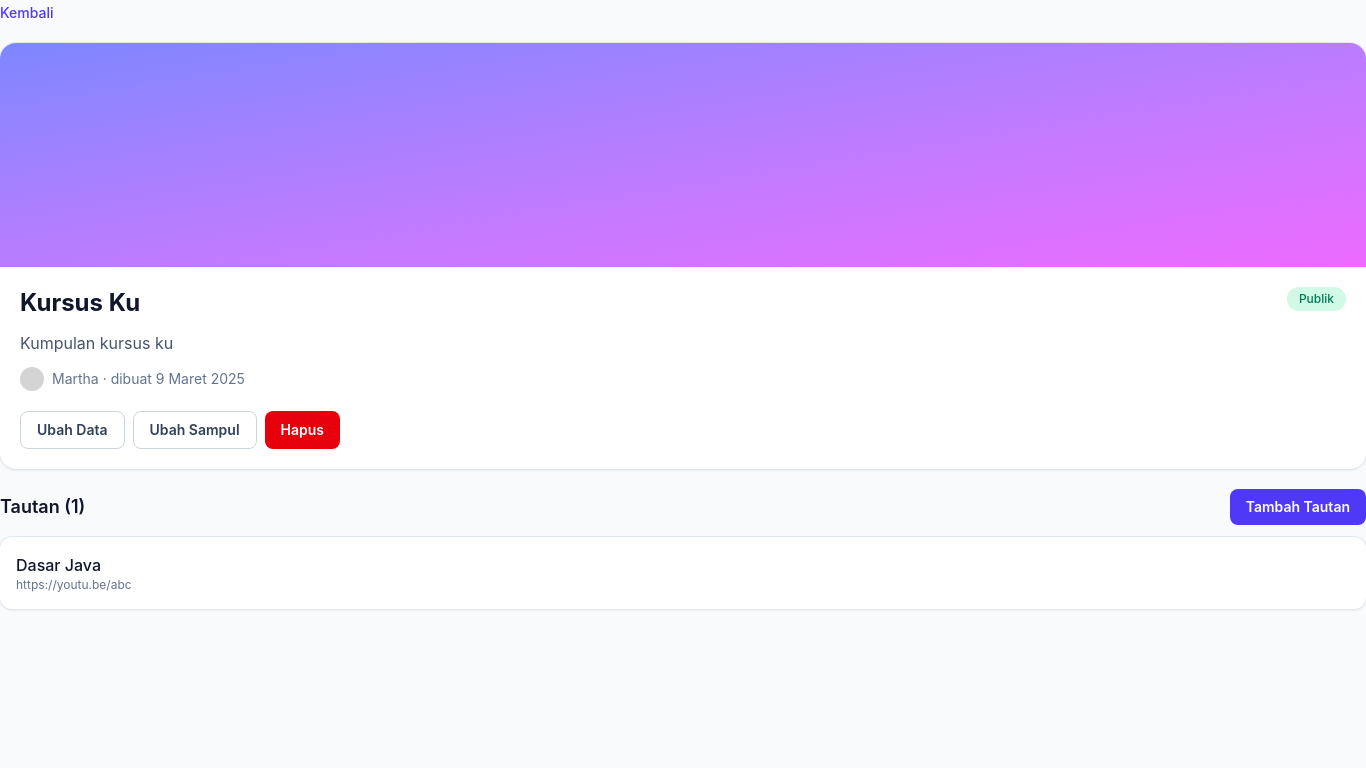
Test case: DetailPage › mengubah data lewat modal tanpa mengosongkan halaman
The image size is (1366, 768).
Click the button "Ubah Data": (72, 430) [20, 411, 124, 449]
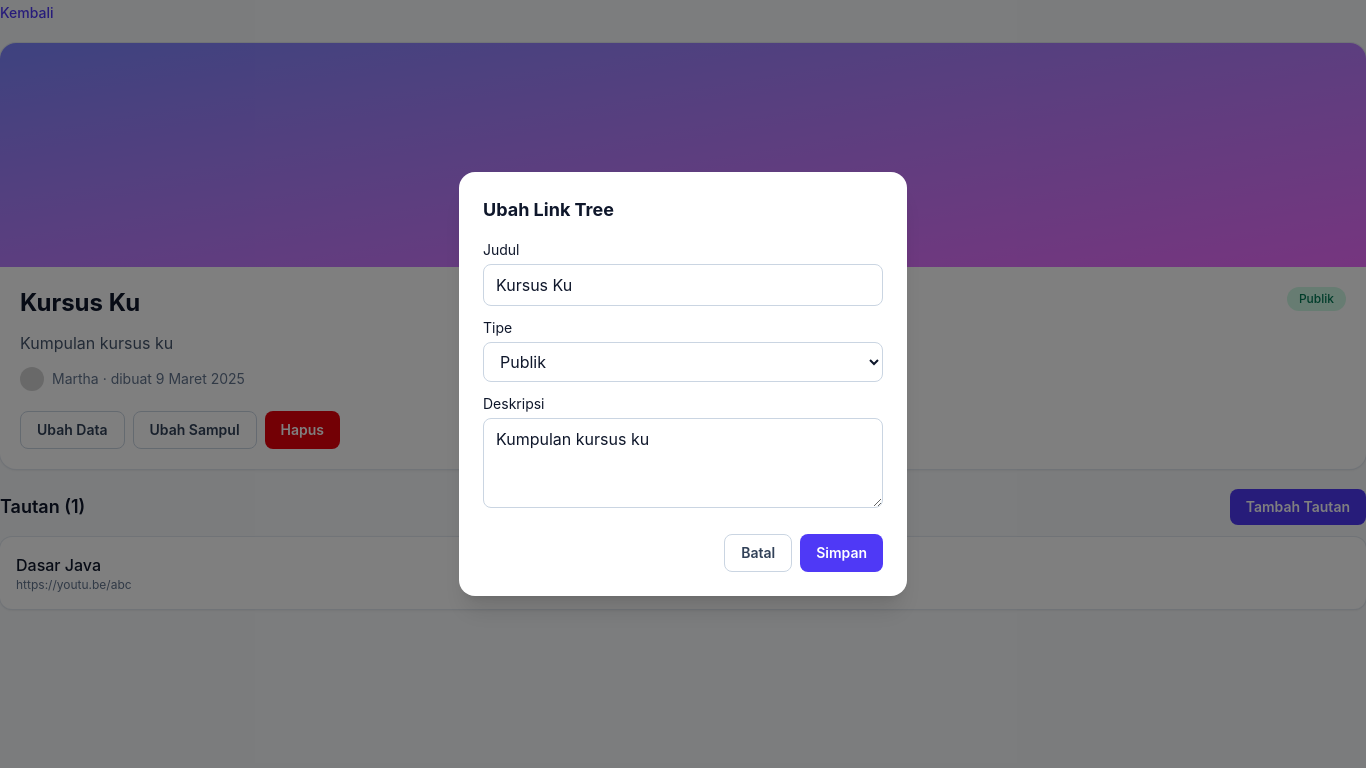
Submit the form, box [483, 240, 883, 572]
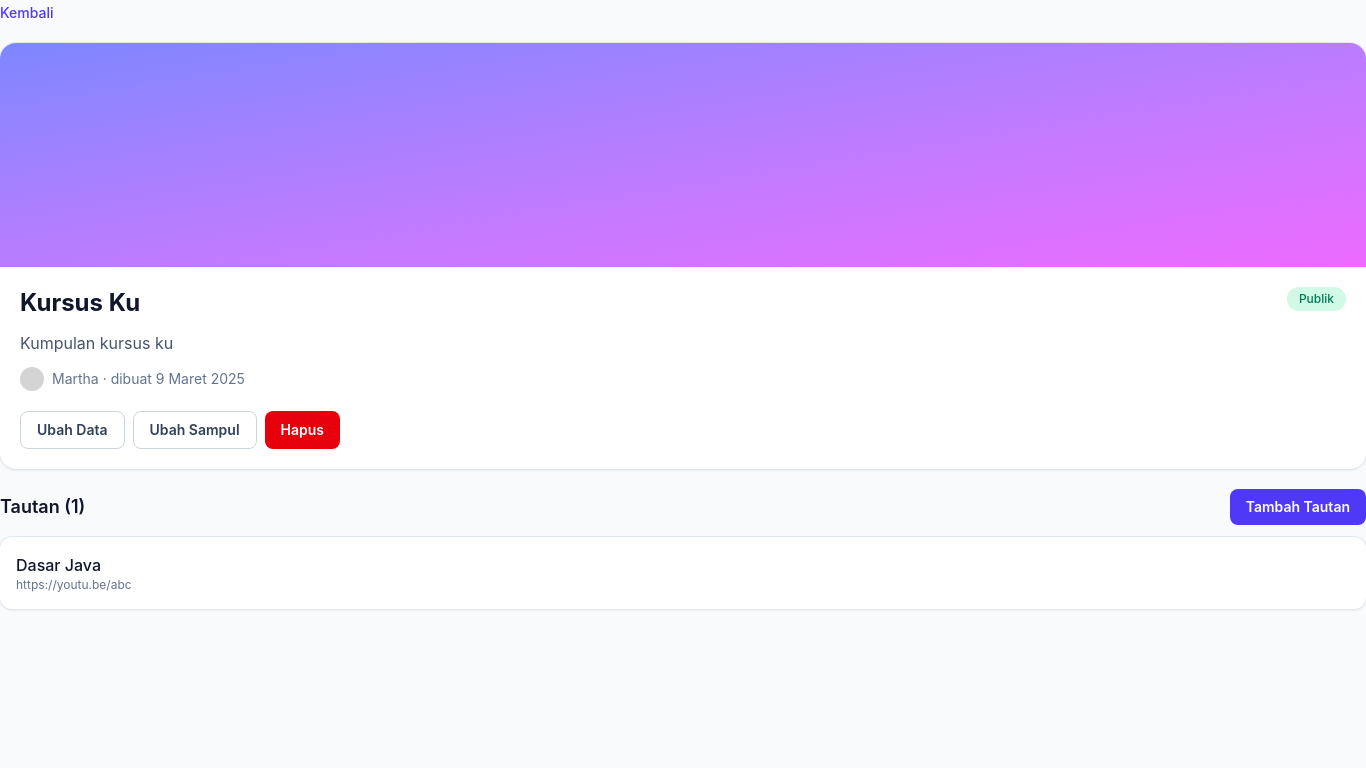
Expected: the heading "Kursus Ku" is shown, [20, 287, 140, 319]
Expected: the dialog is gone
